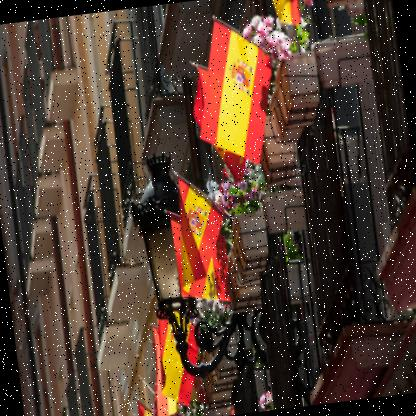es: (189, 12, 281, 171), (172, 166, 236, 300)
